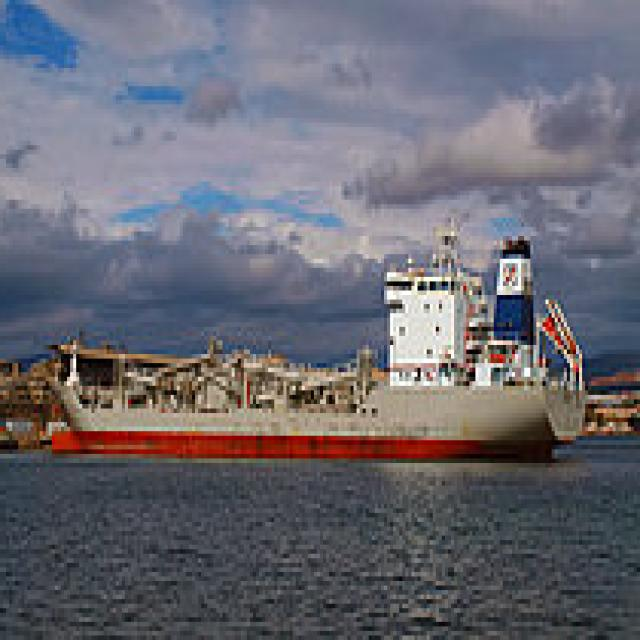Cargo: (49, 195, 594, 463)
